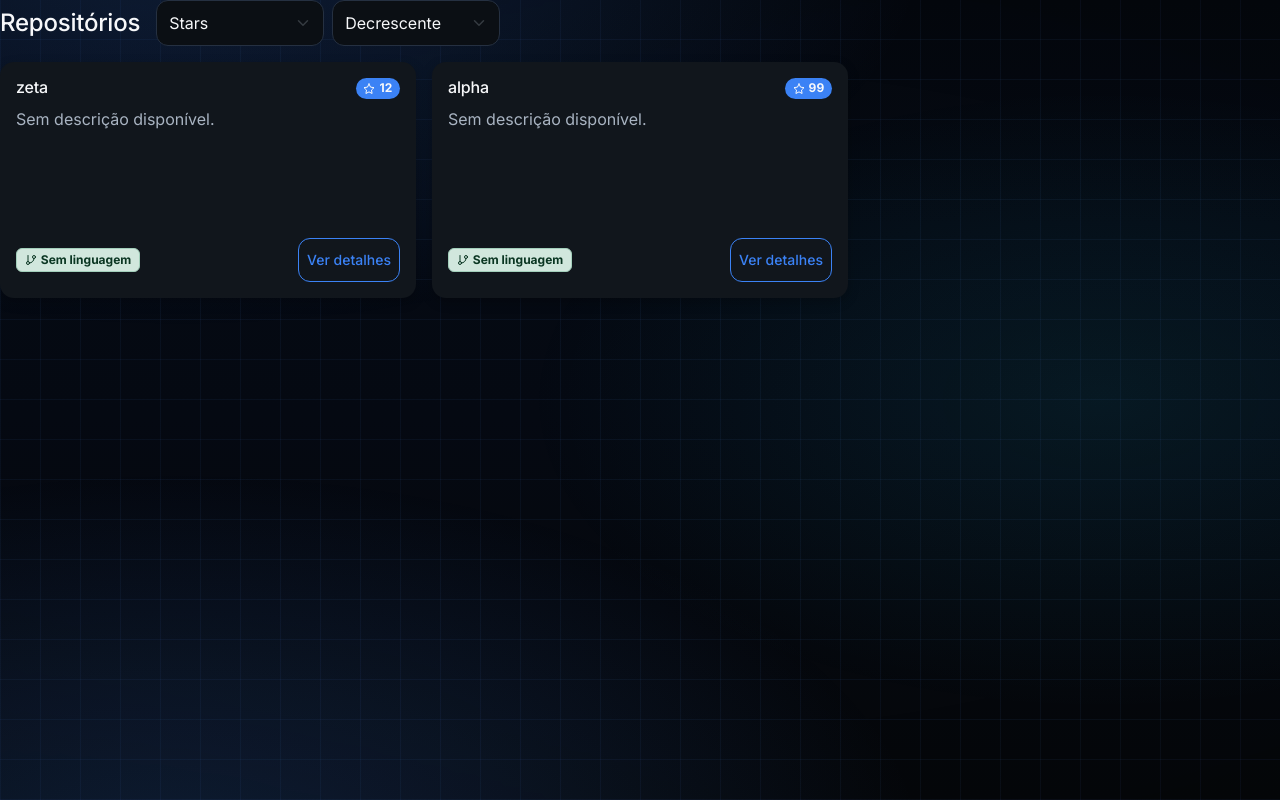
Test: RepositoryList › abre modal de detalhes ao clicar no item
This screenshot has width=1280, height=800.
Click the button "Ver detalhes" below "zeta" at (349, 260), box top-left (298, 238), bottom-right (400, 282)
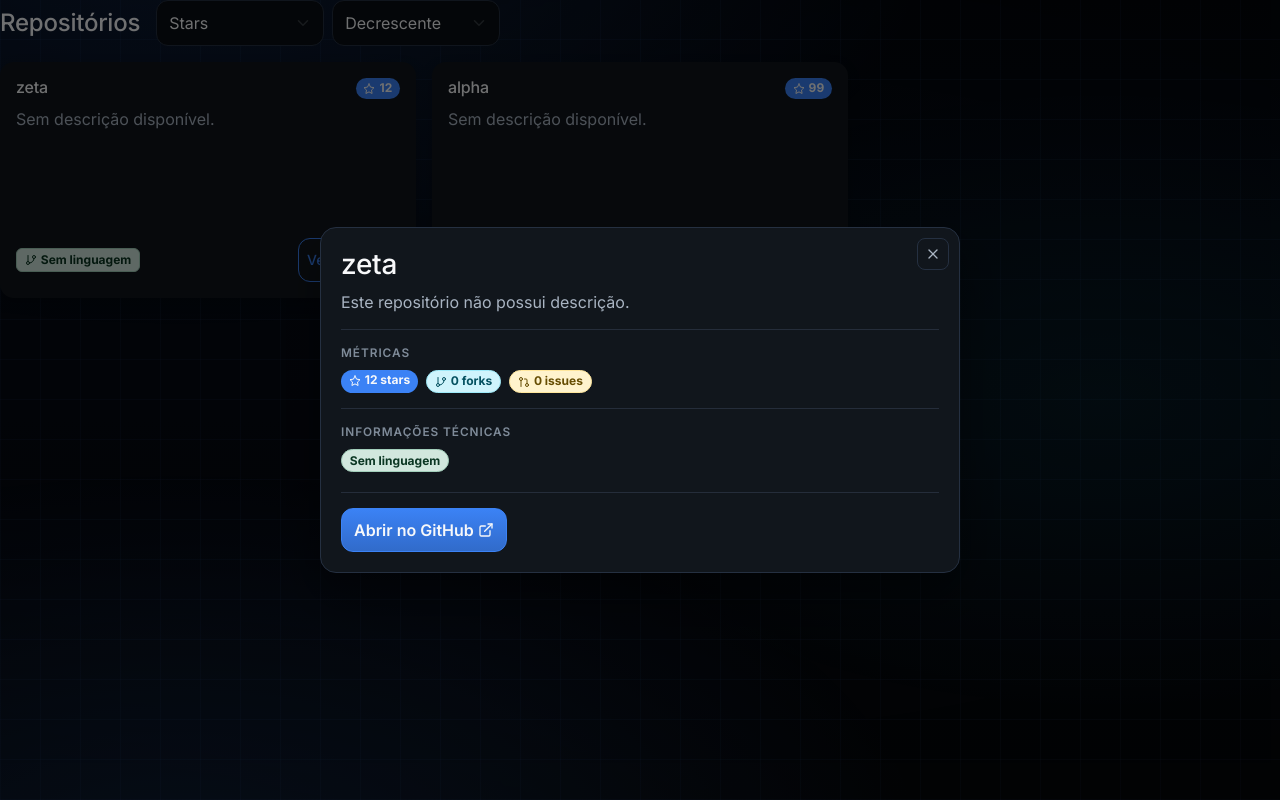
Expected: the dialog is shown, top-left (320, 227), bottom-right (960, 573)
Expected: the heading "zeta" is shown, top-left (341, 247), bottom-right (397, 281)
